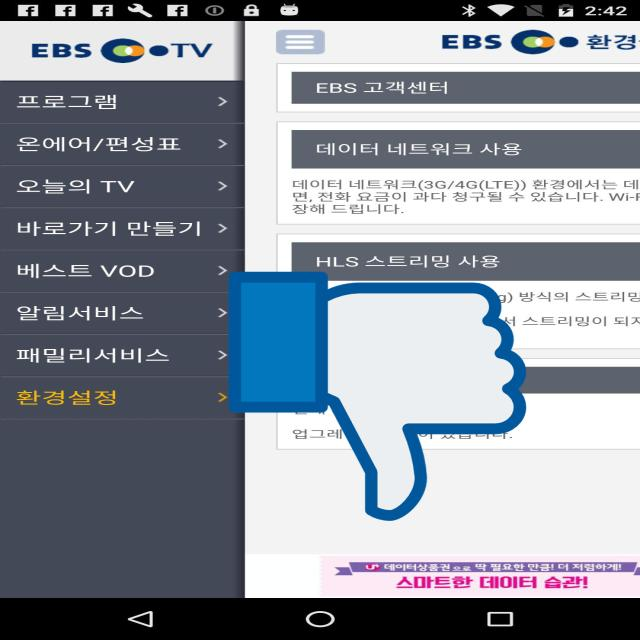obstruction: (229, 266, 526, 526)
